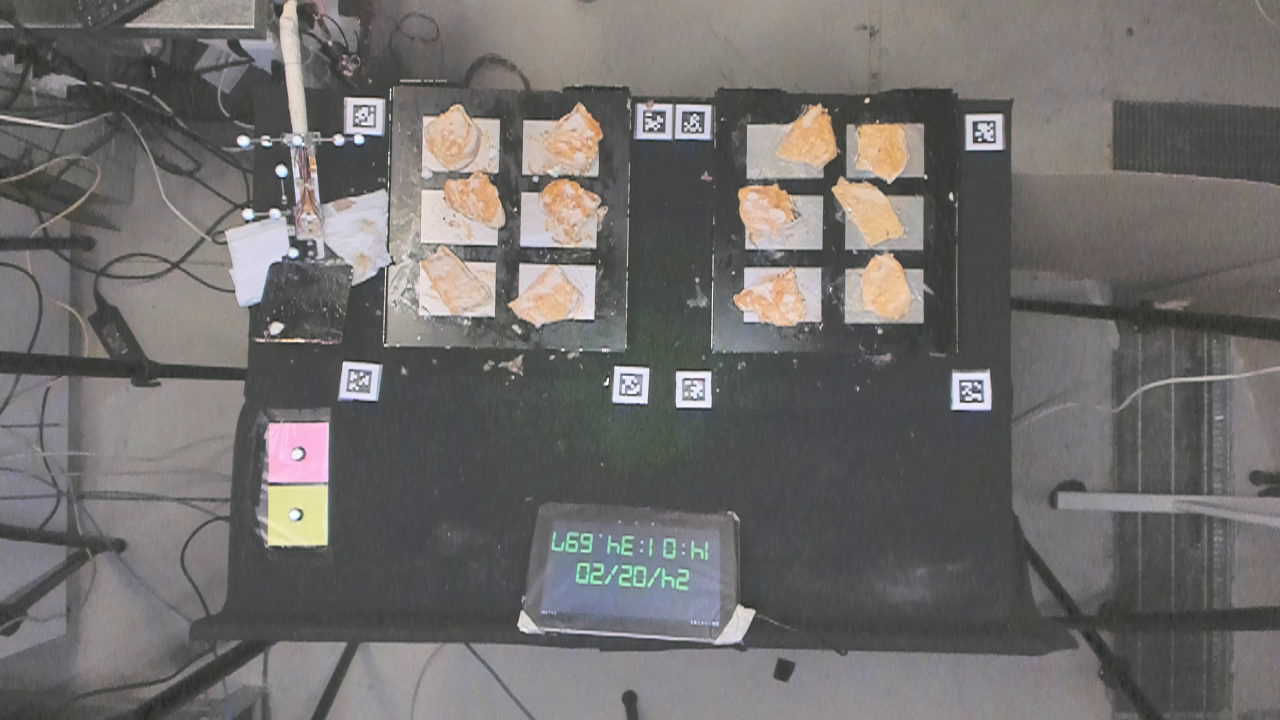chicken: (529, 100, 603, 181), (532, 179, 610, 253), (418, 246, 494, 320), (507, 267, 586, 337), (835, 172, 903, 249), (724, 268, 803, 332), (735, 181, 799, 250), (777, 100, 840, 170), (854, 117, 916, 185), (442, 171, 510, 229), (424, 102, 479, 172), (859, 253, 911, 321)
marker: (264, 418, 331, 484)
